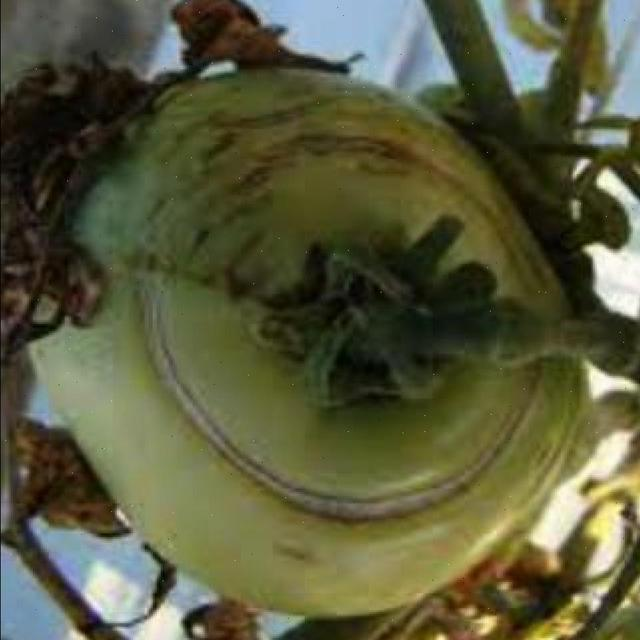Cracking Fruit: (226, 122, 294, 248)
